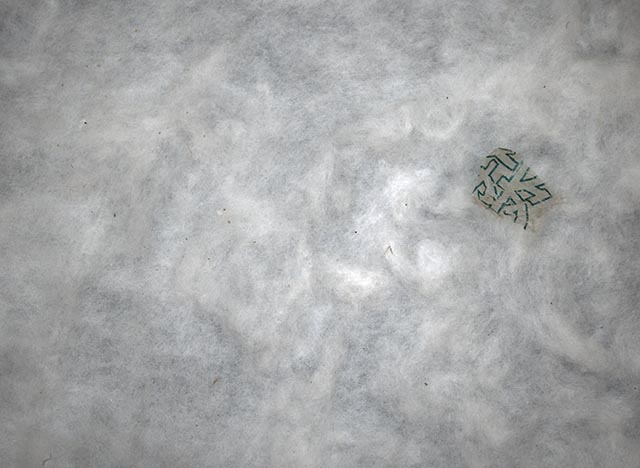plastic film: (471, 147, 561, 235)
